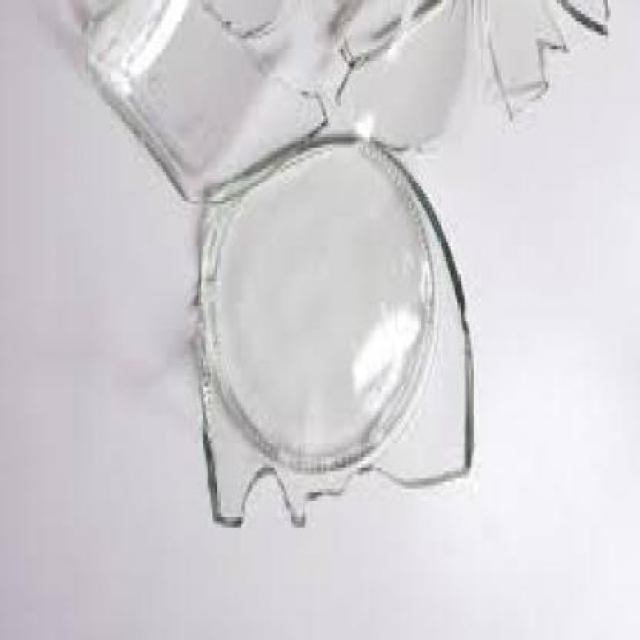glass: (191, 142, 472, 532), (82, 4, 324, 208), (334, 5, 486, 158), (486, 3, 565, 123), (560, 5, 606, 43)
